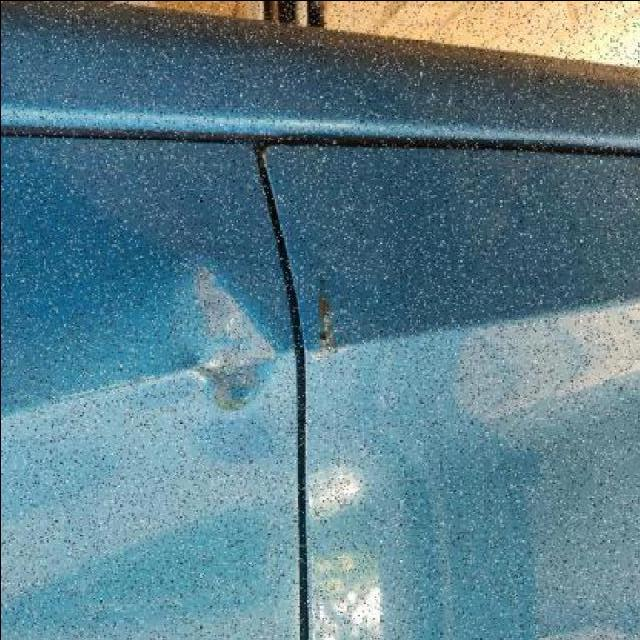doorouter-dent: (296, 77, 640, 640), (0, 78, 297, 635)
